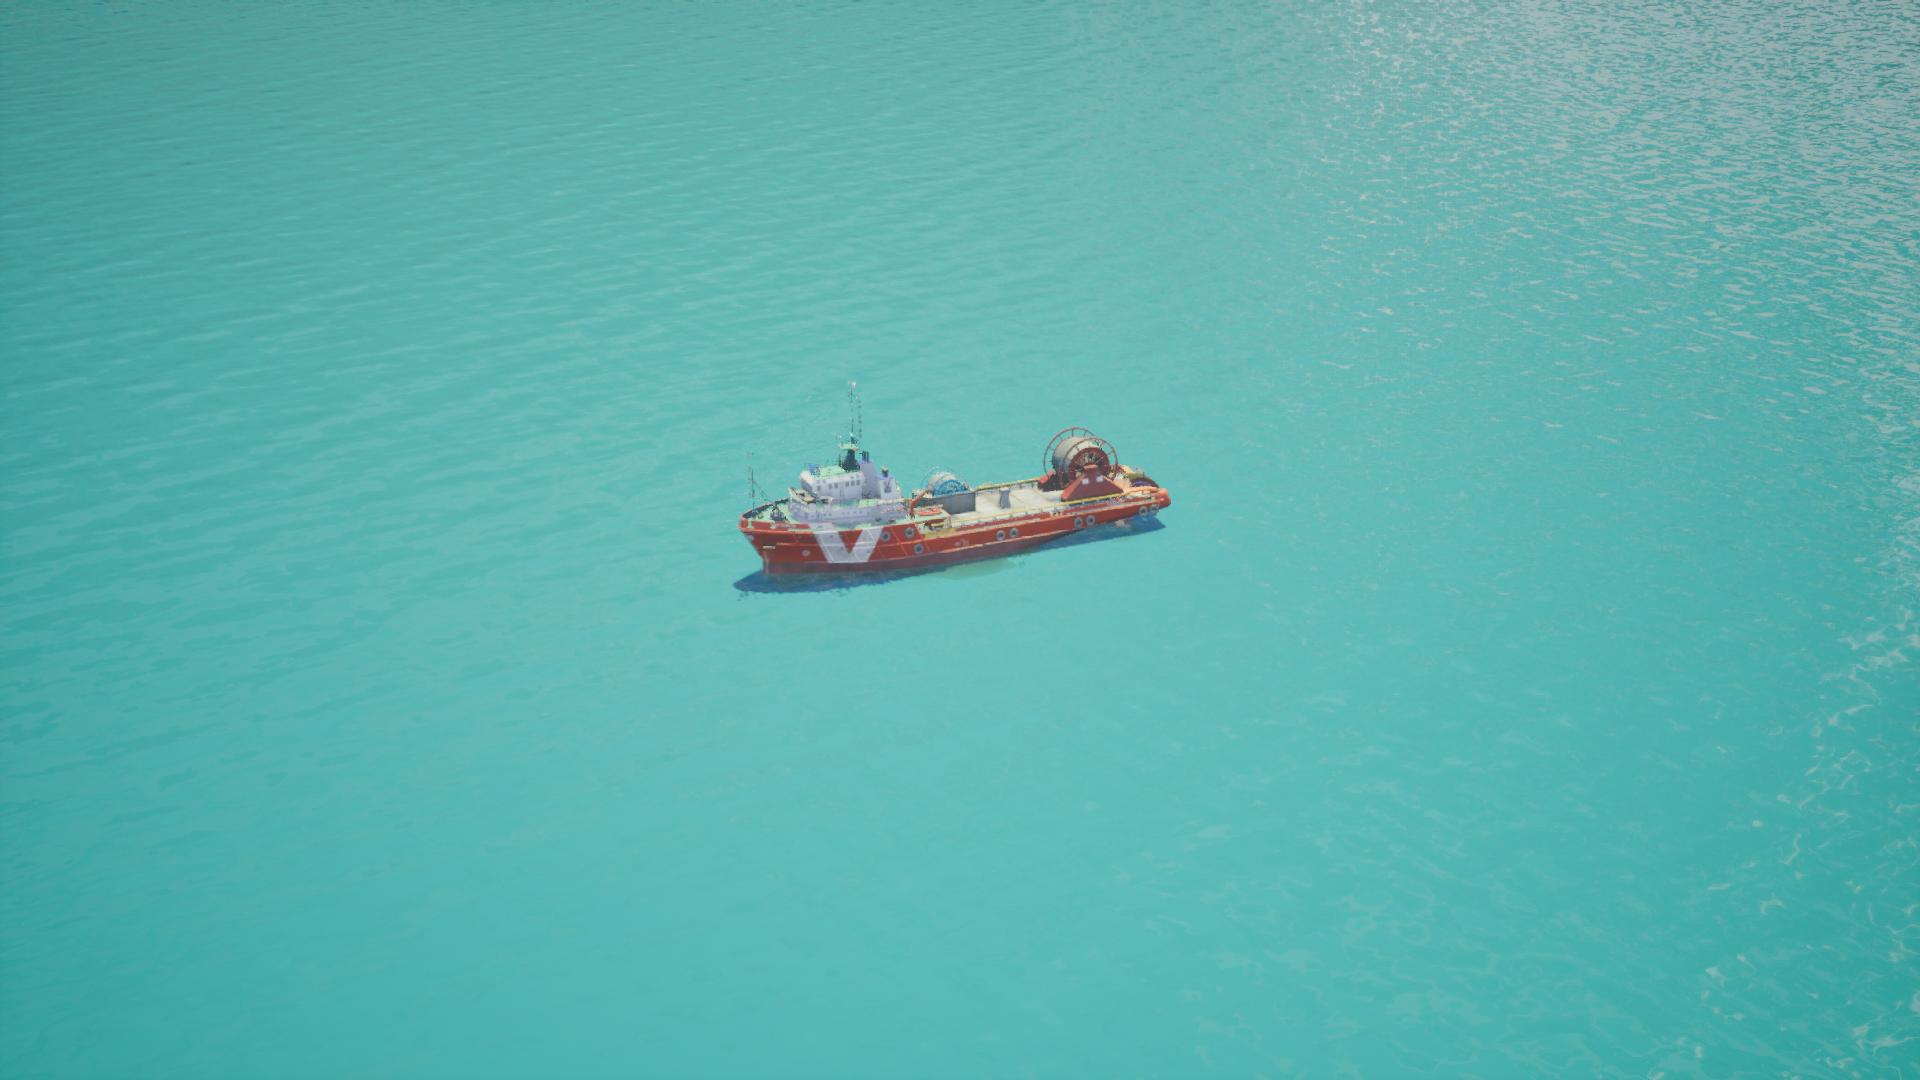Tug Boat: (733, 388, 1168, 593)
